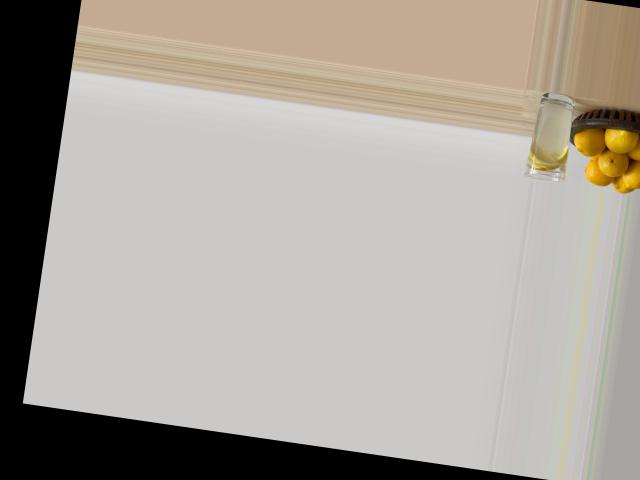lemon: (617, 154, 640, 194)
